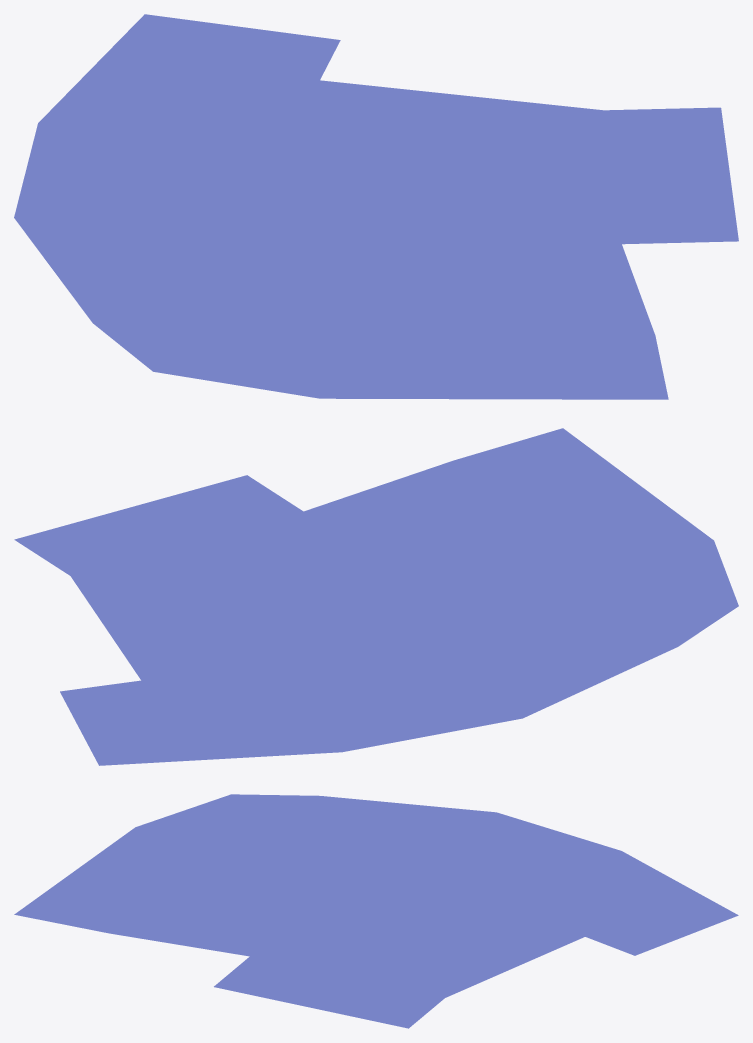
File: terrain_W4A3_water.fbx
3 views of the same model, one above another, from view 1: azimuth 30°, elevation 25°; view 2: azimuth 150°, elevation 25°; view 3: azimuth 270°, elevation 25° (orthographic). The views are drawn at different scales.
Visible parts, largest first — view 1: W4A3water; view 2: W4A3water; view 3: W4A3water.
Part boxes in pixels (x1,y1,x2,y2): W4A3water: [14, 14, 738, 399]; W4A3water: [14, 428, 738, 765]; W4A3water: [14, 794, 738, 1028].
Bounding box in the file's own units: 35044 × 0 × 45830.
